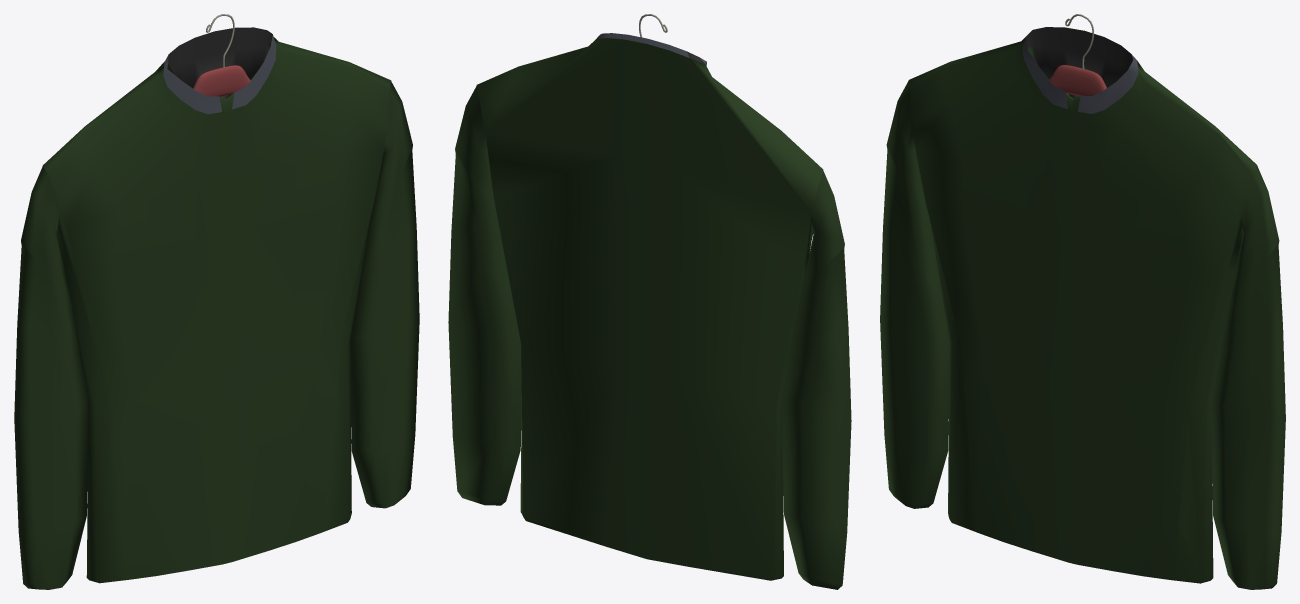
The model's file is Sueter_Verde.fbx.
3 views of the same model, side by side, from view 1: azimuth 30°, elevation 25°; view 2: azimuth 150°, elevation 25°; view 3: azimuth 330°, elevation 25° (orthographic).
Parts seen in each view (by area): view 1: Sueter, Gancho; view 2: Sueter; view 3: Sueter, Gancho.
Boxes of the visible parts, box(x1,y1,x2,y2) form: Sueter: box(14, 27, 419, 589); Gancho: box(193, 14, 250, 96); Sueter: box(448, 33, 851, 589); Sueter: box(880, 27, 1285, 589); Gancho: box(1049, 14, 1106, 96).
Bounding box in the file's own units: 1124 × 1441 × 65.19.
